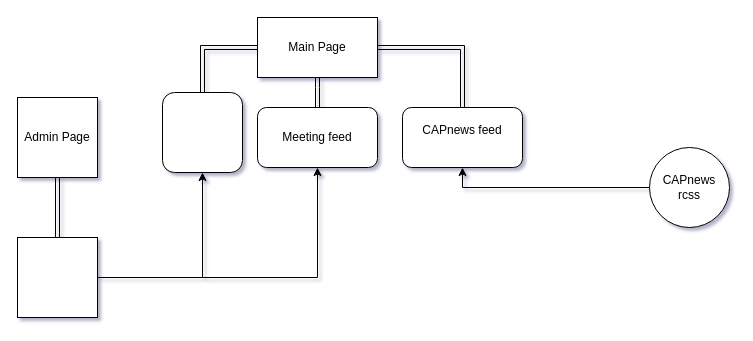
Image size: 753x341. Some labels were removed from this diagram. Here are the shapes that lost their labels. From the top down, the centre of each, then its label:
(202,132): Promotion feed
(57,277): Data Submission Forms
